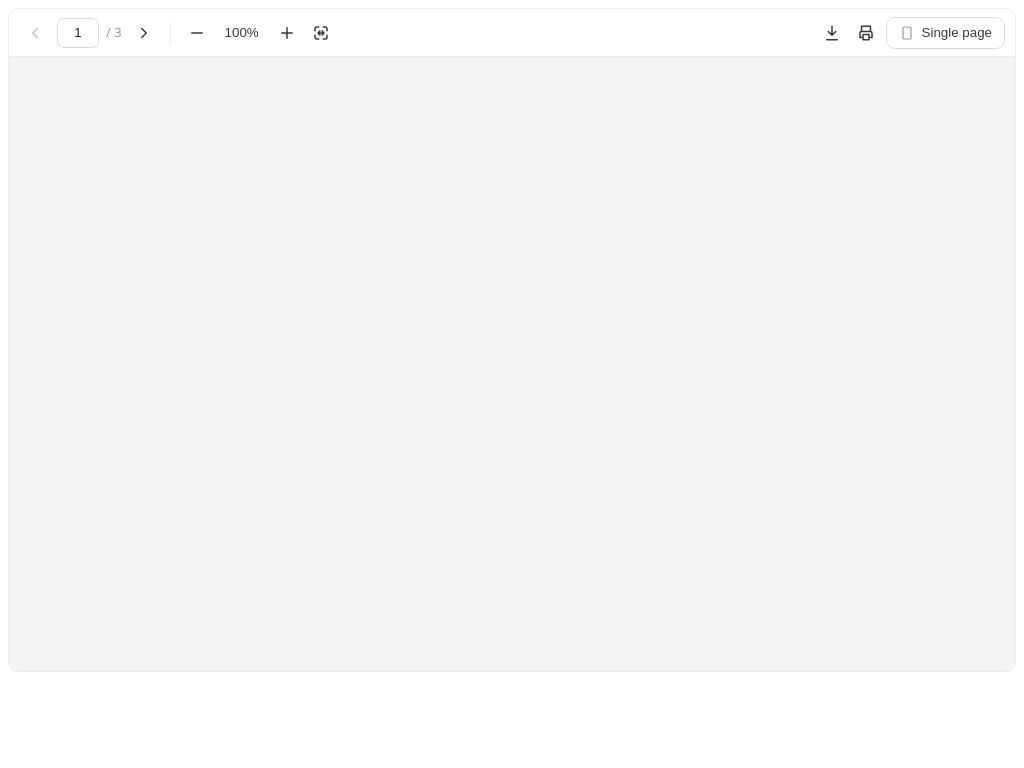
Test case: <DocViewer> pagination toolbar › keeps the page input in sync when navigating with the buttons
Expected: the field named "Page number" is enabled, [57,18,99,48]
Click the button named "Next page" at (144, 32), box [128,16,160,48]
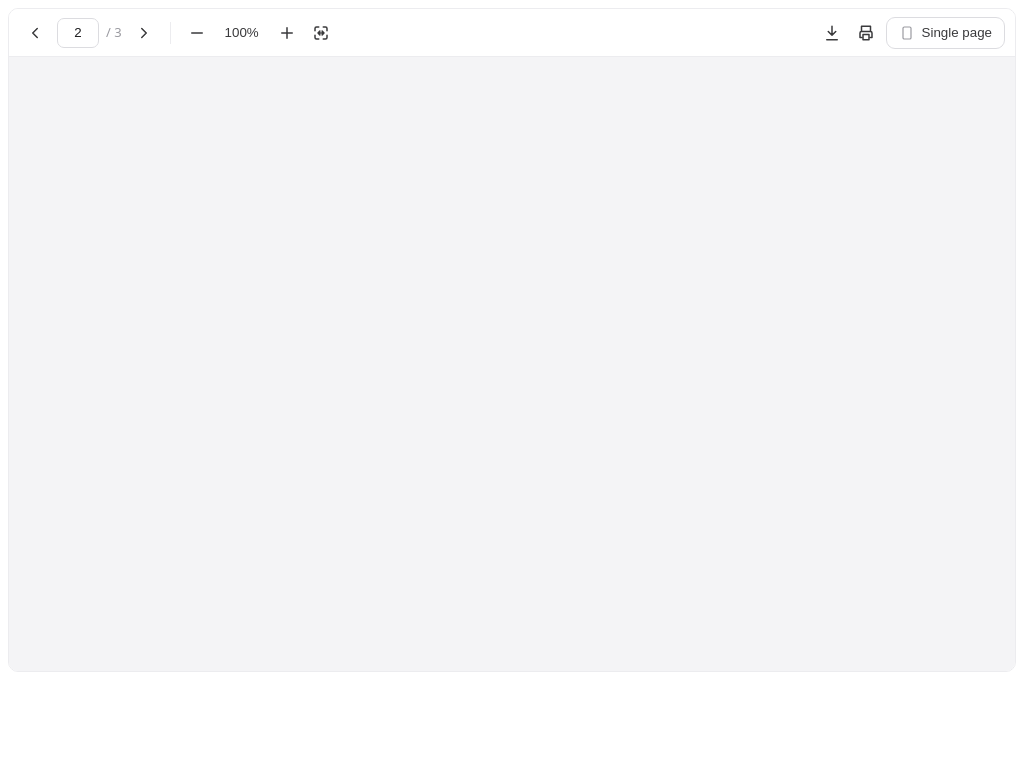
Expected: the field named "Page number" holds "2", [57,18,99,48]
Click the button named "Previous page" at (35, 32), box [19,16,51,48]
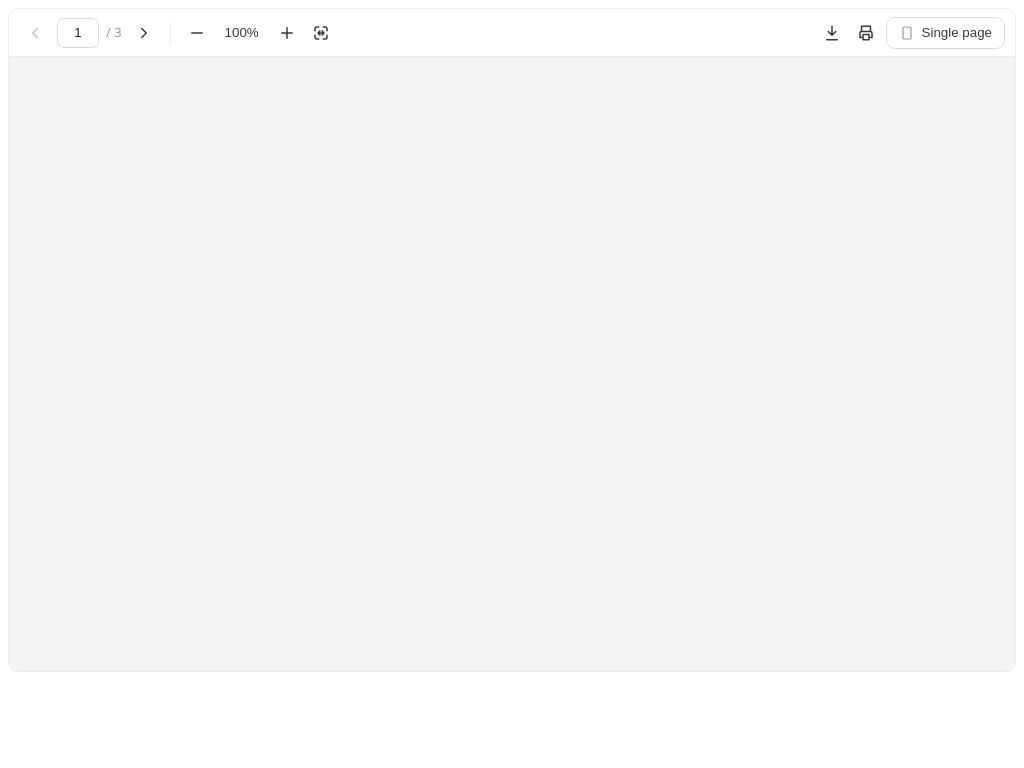
Expected: the field named "Page number" holds "1", [57,18,99,48]
